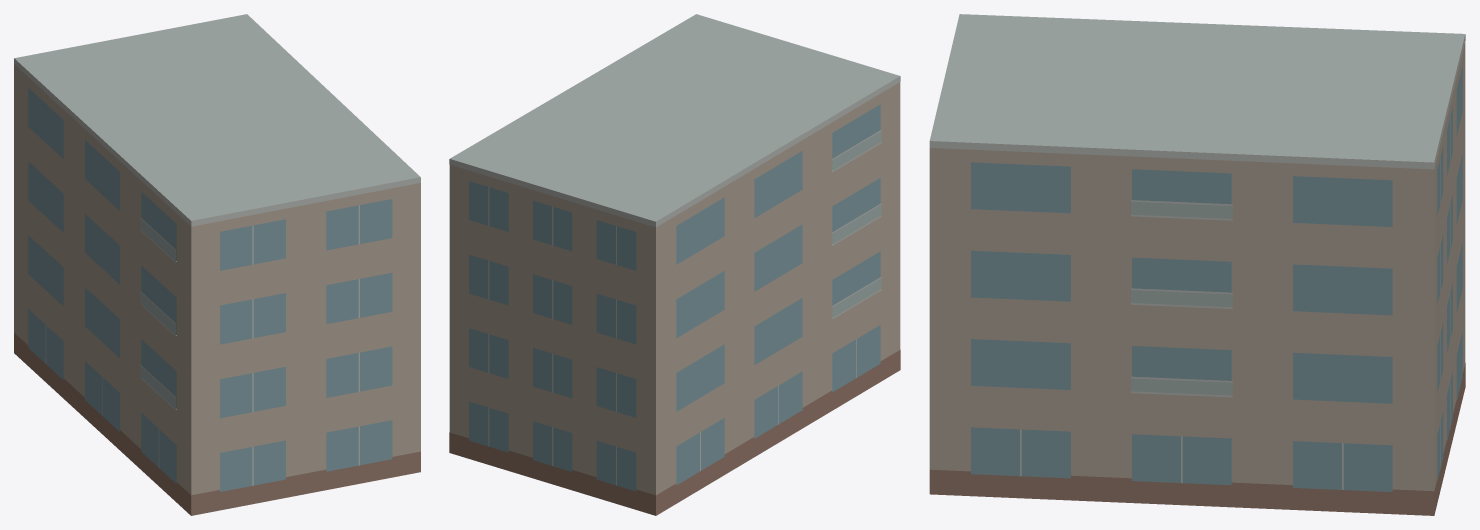
Rendered from survey-upis-32557346.glb.
3 renders of one model, left to right at view 1: azimuth 30°, elevation 25°; view 2: azimuth 150°, elevation 25°; view 3: azimuth 270°, elevation 25°, orthographic. The views are drawn at different scales.
Visible parts, largest first — view 1: survey-upis-32557346.tmp; view 2: survey-upis-32557346.tmp; view 3: survey-upis-32557346.tmp.
Part boxes in pixels (left/top/right/bottom): survey-upis-32557346.tmp: left=14, top=14, right=420, bottom=515; survey-upis-32557346.tmp: left=449, top=14, right=900, bottom=515; survey-upis-32557346.tmp: left=929, top=14, right=1465, bottom=515.
Bounding box in the file's own units: 11.28 × 12.5 × 17.19.
